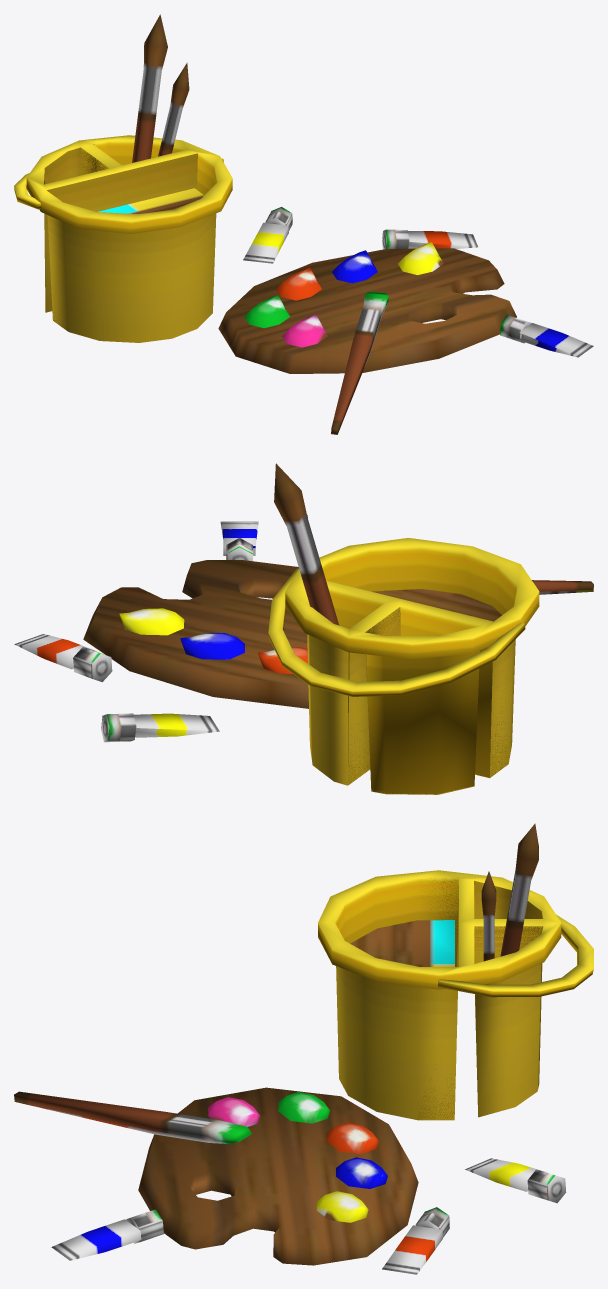
The model's file is int_oth_paint.dae.
The picture shows the model from 3 angles, top to bottom: view 1: azimuth 30°, elevation 25°; view 2: azimuth 150°, elevation 25°; view 3: azimuth 270°, elevation 25°; orthographic projection. The views are drawn at different scales.
Parts seen in each view (by area): view 1: int_oth_paint; view 2: int_oth_paint; view 3: int_oth_paint.
Boxes of the visible parts, <box> form: int_oth_paint: <box>14,14,593,434</box>; int_oth_paint: <box>14,463,593,794</box>; int_oth_paint: <box>14,823,593,1274</box>.
Bounding box in the file's own units: 22.44 × 12.83 × 22.06.
3 materials, 3 textured.
